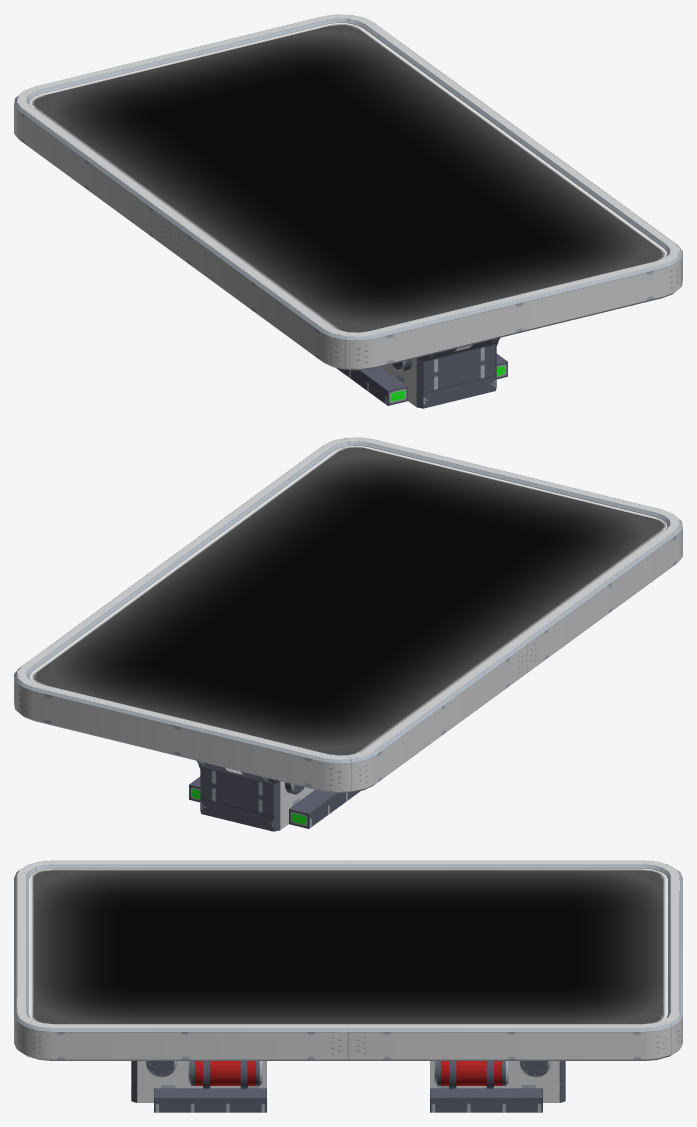
File: Holo_Table_01.FBX
The picture shows the model from 3 angles, top to bottom: view 1: azimuth 30°, elevation 25°; view 2: azimuth 150°, elevation 25°; view 3: azimuth 270°, elevation 25°; orthographic projection. The views are drawn at different scales.
Visible parts, largest first — view 1: Holo_Surface_01, Holo_Table_01; view 2: Holo_Surface_01, Holo_Table_01; view 3: Holo_Surface_01, Holo_Table_01.
Boxes of the visible parts, x1,y1,x2,y2 form: Holo_Surface_01: [30, 23, 667, 332]; Holo_Table_01: [14, 14, 682, 408]; Holo_Surface_01: [29, 446, 666, 755]; Holo_Table_01: [14, 437, 682, 831]; Holo_Surface_01: [29, 868, 667, 1024]; Holo_Table_01: [14, 860, 682, 1112].
Size of the model in its own units: 2.61 by 0.9993 by 4.33.
